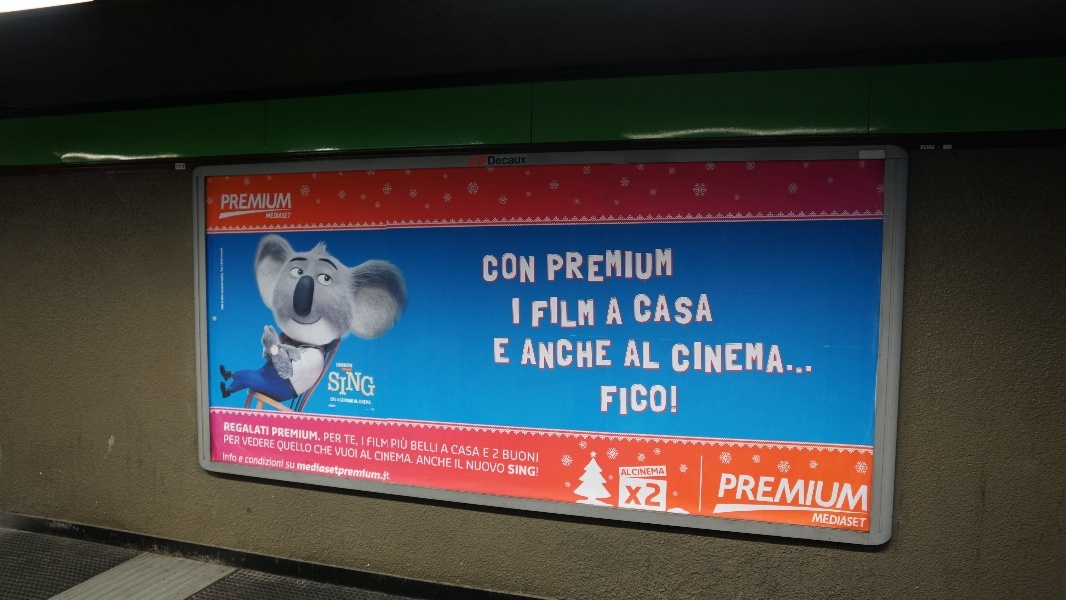text: (737, 471, 752, 512), (753, 471, 768, 512), (769, 471, 784, 512), (785, 471, 800, 512), (801, 471, 816, 512), (817, 471, 832, 512), (833, 471, 848, 512), (849, 471, 864, 512), (561, 247, 576, 287), (577, 247, 592, 287), (593, 247, 608, 287), (609, 247, 624, 287), (625, 247, 640, 287), (641, 247, 656, 287), (657, 247, 672, 287), (673, 340, 688, 376), (689, 340, 704, 376), (705, 340, 720, 376), (721, 340, 736, 376), (737, 340, 752, 376), (753, 340, 768, 376), (769, 340, 784, 376), (785, 340, 800, 376), (723, 471, 736, 512), (547, 247, 560, 287), (609, 383, 624, 417), (625, 383, 640, 417), (641, 383, 656, 417), (657, 383, 672, 417), (497, 252, 512, 285), (513, 252, 528, 285), (529, 338, 544, 371), (545, 338, 560, 371), (561, 338, 576, 371), (577, 338, 592, 371), (593, 338, 608, 371), (641, 293, 656, 326), (657, 293, 672, 326), (673, 293, 688, 326), (689, 293, 704, 326), (545, 297, 560, 329), (561, 297, 576, 329), (577, 297, 592, 329), (641, 339, 656, 371), (337, 370, 352, 399), (353, 370, 368, 399), (801, 340, 813, 376), (483, 252, 496, 285), (641, 481, 656, 508), (532, 297, 544, 329), (626, 481, 640, 508), (497, 338, 511, 365), (705, 293, 716, 326), (629, 339, 640, 371), (612, 297, 624, 326), (305, 461, 320, 483), (321, 461, 336, 483), (337, 461, 352, 483), (353, 461, 368, 483), (369, 461, 384, 483), (657, 339, 665, 371), (225, 193, 240, 210), (241, 193, 256, 210), (257, 193, 272, 210), (273, 193, 288, 210), (817, 513, 832, 529), (833, 513, 848, 529), (849, 513, 864, 529), (601, 383, 608, 417), (369, 370, 377, 399), (529, 252, 536, 285), (273, 427, 288, 442), (289, 427, 304, 442), (305, 427, 320, 442), (513, 298, 521, 326), (225, 422, 240, 436), (241, 422, 256, 436), (481, 460, 496, 474), (634, 293, 640, 326), (257, 436, 272, 449), (289, 440, 304, 453), (257, 455, 272, 468), (385, 451, 400, 464), (465, 445, 480, 458), (433, 455, 448, 468), (513, 450, 528, 463), (242, 436, 256, 449), (467, 460, 480, 474), (337, 447, 352, 459), (369, 437, 384, 449), (417, 441, 432, 453), (513, 465, 528, 477), (330, 370, 336, 399), (673, 383, 678, 417), (401, 451, 414, 464), (419, 455, 432, 468), (257, 422, 269, 436), (865, 471, 869, 512), (225, 435, 241, 445), (452, 445, 464, 458), (321, 444, 333, 456), (324, 432, 336, 444), (273, 455, 284, 468), (298, 461, 304, 483), (609, 338, 613, 371), (278, 440, 288, 453), (246, 455, 256, 468), (225, 452, 237, 462), (484, 448, 496, 458), (641, 468, 656, 476), (375, 451, 384, 464), (503, 450, 512, 463), (529, 450, 538, 463), (497, 460, 505, 474), (385, 461, 390, 483), (529, 465, 538, 477), (657, 481, 661, 508), (392, 437, 400, 450), (455, 459, 464, 470), (344, 435, 352, 447), (593, 297, 596, 329), (305, 440, 312, 453), (401, 437, 408, 450), (273, 213, 288, 219), (337, 363, 353, 368), (353, 435, 359, 447), (657, 468, 666, 476), (338, 398, 352, 403), (526, 338, 528, 371), (632, 468, 640, 476), (315, 444, 320, 456), (337, 432, 342, 444), (353, 447, 358, 459), (362, 436, 368, 446), (411, 441, 416, 453), (433, 441, 438, 453), (625, 469, 632, 477), (363, 449, 368, 460), (494, 338, 496, 365), (355, 400, 368, 404), (289, 193, 292, 210), (443, 444, 448, 454), (865, 513, 868, 529), (359, 400, 368, 405), (369, 449, 373, 460), (289, 462, 295, 469), (177, 164, 185, 169), (342, 368, 352, 372), (673, 247, 674, 287), (449, 455, 452, 468), (221, 282, 224, 294), (385, 437, 388, 449), (509, 465, 512, 477), (222, 193, 224, 210), (221, 247, 224, 258), (267, 213, 272, 219), (321, 427, 323, 442), (493, 449, 496, 459), (273, 436, 275, 449), (331, 397, 336, 402), (334, 447, 336, 459), (222, 272, 224, 283), (221, 258, 224, 265), (221, 294, 224, 301), (497, 449, 499, 459), (289, 213, 292, 219), (221, 267, 224, 273), (815, 513, 816, 529), (369, 400, 372, 405), (222, 304, 224, 311), (241, 456, 243, 463), (367, 437, 368, 449), (223, 452, 224, 462), (221, 301, 224, 304), (623, 469, 624, 477), (239, 456, 240, 463), (287, 462, 288, 469), (353, 398, 354, 403)
